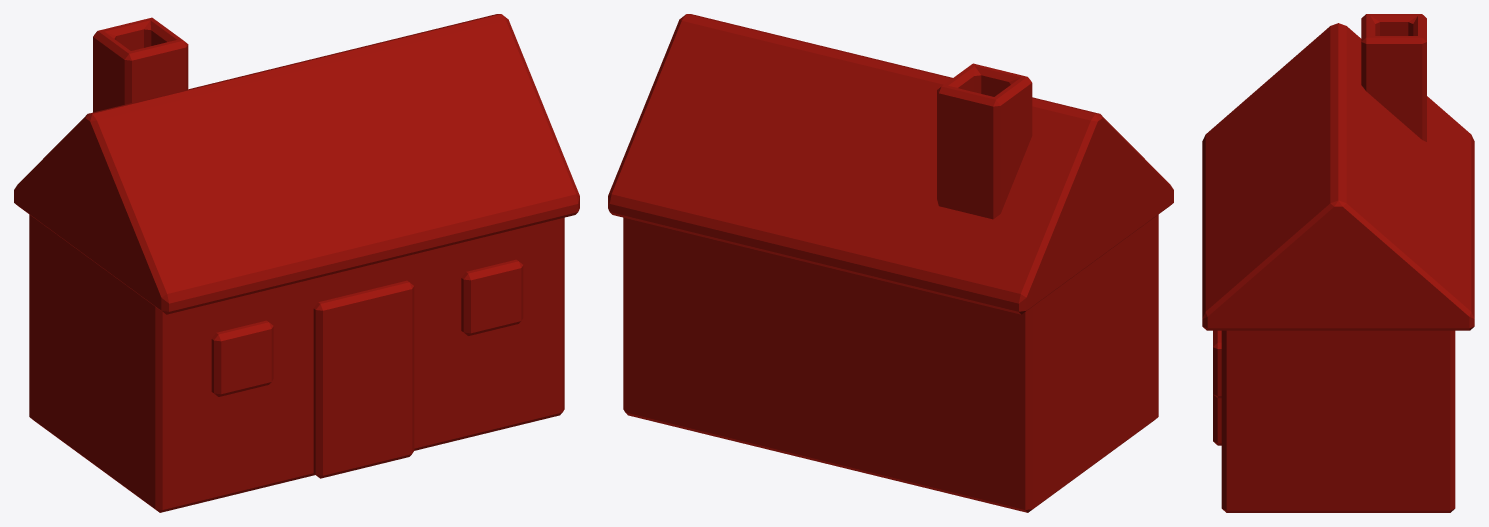
Rendered from Hotel.fbx.
3 views of the same model, side by side, from view 1: azimuth 30°, elevation 25°; view 2: azimuth 150°, elevation 25°; view 3: azimuth 270°, elevation 25° (orthographic). The views are drawn at different scales.
Parts seen in each view (by area): view 1: Hotel; view 2: Hotel; view 3: Hotel.
Boxes of the visible parts, <box> form: Hotel: <box>14,14,579,512</box>; Hotel: <box>608,14,1173,512</box>; Hotel: <box>1202,14,1474,512</box>.
Bounding box in the file's own units: 195 × 273 × 307.
